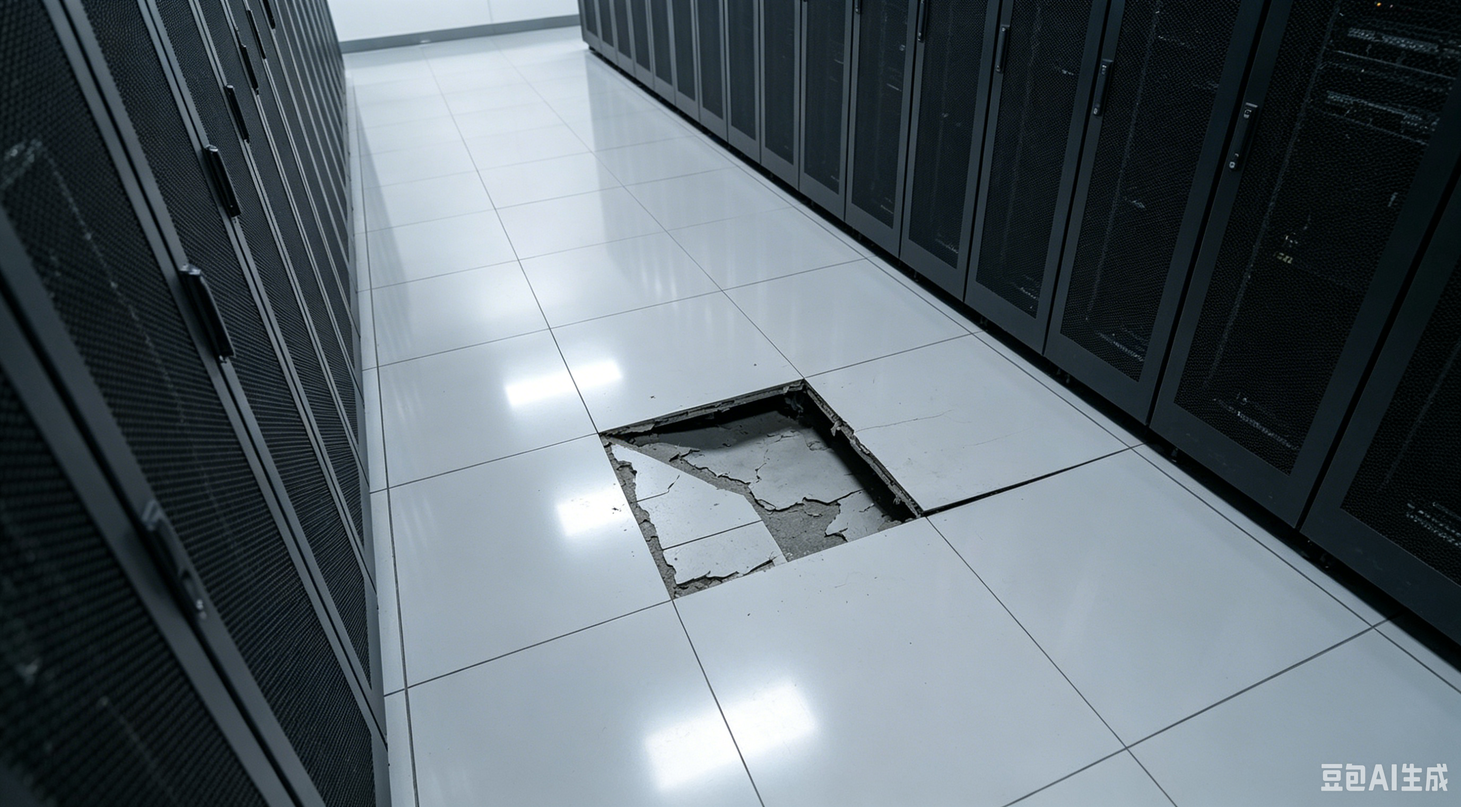floor_defect: (581, 377, 919, 595), (917, 469, 1062, 526)
